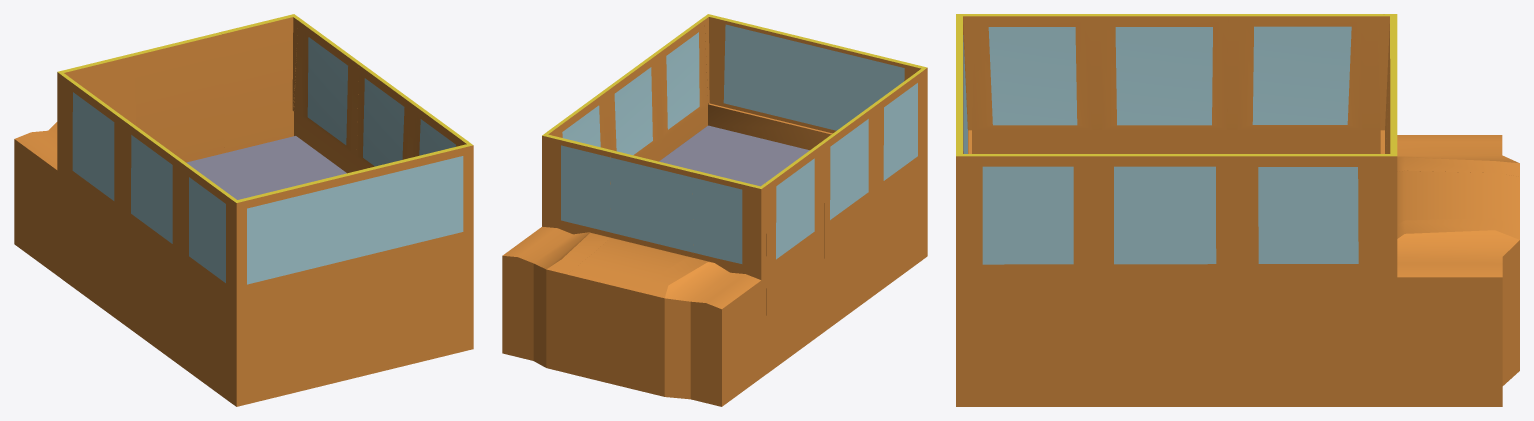
Rendered from busprototip.fbx.
The picture shows the model from 3 angles, left to right: view 1: azimuth 30°, elevation 25°; view 2: azimuth 150°, elevation 25°; view 3: azimuth 270°, elevation 25°; orthographic projection. The views are drawn at different scales.
Parts seen in each view (by area): view 1: Cube.055, Cube.050, Cube.058, Cube.057, Cube.056, Cube.012, Cube.061, Cube.051, Cube.052, Cube.060, Cube.053, Cube.054; view 2: Cube.061, Cube.012, Cube.051, Cube.050, Cube.058, Cube.057, Cube.056, Cube.055, Cube.054, Cube.060, Cube.053, Cube.052; view 3: Cube.052, Cube.053, Cube.054, Cube.051, Cube.058, Cube.057, Cube.056, Cube.012, Cube.061, Cube.050, Cube.055.
Part boxes in pixels (box(x1,y1,x2,y2)): Cube.055: box(232, 172, 354, 406); Cube.050: box(352, 140, 473, 377); Cube.058: box(62, 75, 128, 324); Cube.057: box(125, 121, 185, 367); Cube.056: box(183, 162, 232, 403); Cube.012: box(132, 32, 224, 162); Cube.061: box(14, 53, 135, 278); Cube.051: box(220, 14, 298, 152); Cube.052: box(294, 17, 361, 173); Cube.060: box(186, 136, 346, 199); Cube.053: box(356, 63, 419, 170); Cube.054: box(413, 106, 468, 157); Cube.061: box(644, 170, 766, 406); Cube.012: box(567, 150, 694, 391); Cube.051: box(502, 131, 613, 372); Cube.050: box(703, 14, 817, 150); Cube.058: box(765, 142, 824, 373); Cube.057: box(822, 103, 878, 331); Cube.056: box(874, 71, 923, 291); Cube.055: box(812, 41, 927, 258); Cube.054: box(658, 17, 707, 158); Cube.060: box(659, 125, 809, 186); Cube.053: box(605, 50, 662, 161); Cube.052: box(547, 89, 610, 149); Cube.052: box(1229, 154, 1385, 406); Cube.053: box(1088, 154, 1231, 406); Cube.054: box(967, 154, 1090, 406); Cube.051: box(1379, 111, 1519, 406); Cube.058: box(1227, 14, 1383, 153); Cube.057: box(1088, 14, 1229, 153); Cube.056: box(968, 14, 1092, 153); Cube.012: box(1385, 58, 1519, 226); Cube.061: box(1377, 14, 1519, 176); Cube.050: box(956, 85, 973, 406); Cube.055: box(956, 14, 974, 153).
Bounding box in the file's own units: 190 × 156 × 318.
